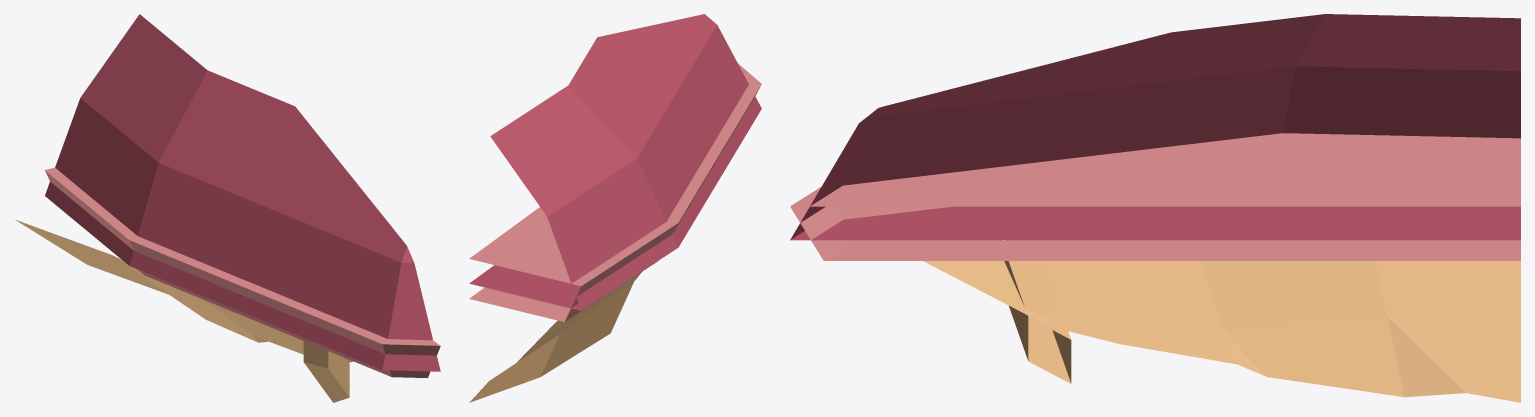
The model's file is cell_024.obj.
The picture shows the model from 3 angles, left to right: view 1: azimuth 30°, elevation 25°; view 2: azimuth 150°, elevation 25°; view 3: azimuth 270°, elevation 25°; orthographic projection. The views are drawn at different scales.
Bounding box in the file's own units: 0.2916 × 0.5348 × 0.9559.
